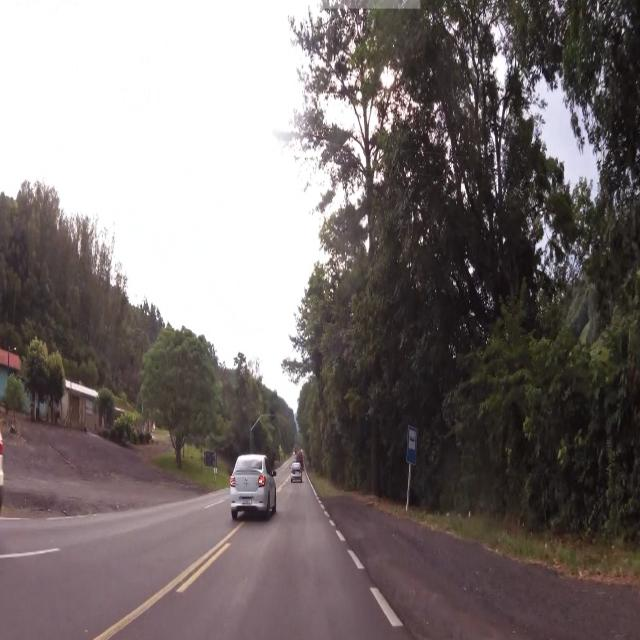S-14: (407, 422, 417, 468)
